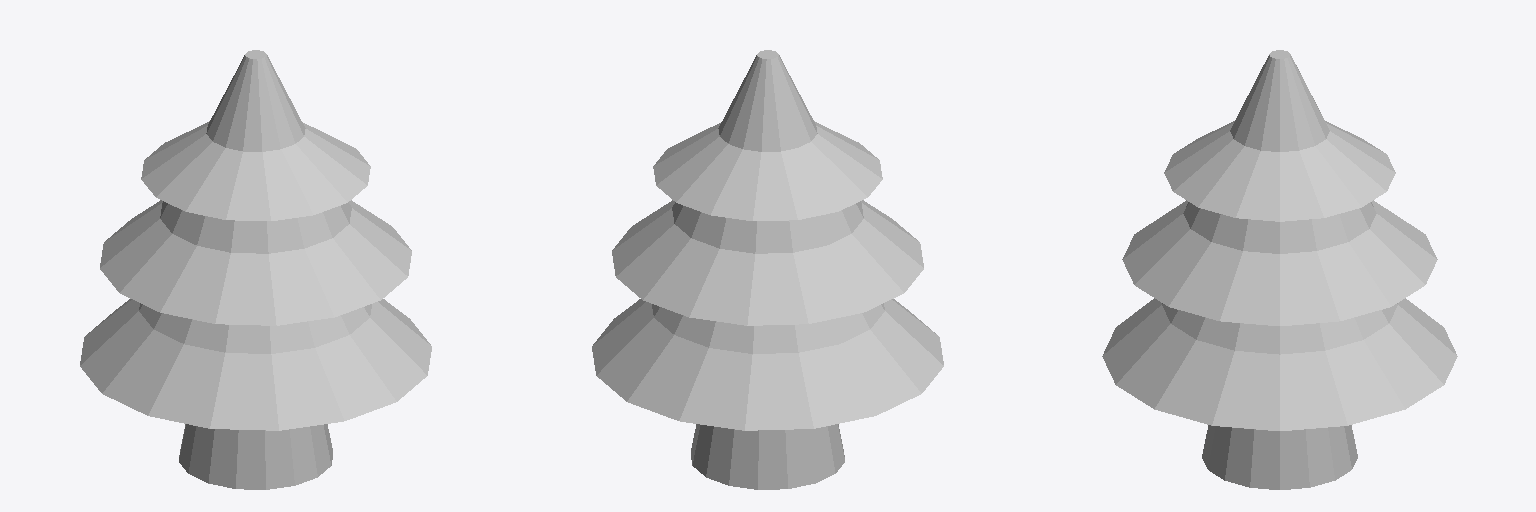
The model's file is tree.obj.
The picture shows the model from 3 angles: view 1: azimuth 30°, elevation 25°; view 2: azimuth 150°, elevation 25°; view 3: azimuth 270°, elevation 25°; orthographic projection.
Parts seen in each view (by area): view 1: Cylinder; view 2: Cylinder; view 3: Cylinder.
Boxes of the visible parts, box(x1,y1,x2,y2) form: Cylinder: box(80, 50, 431, 489); Cylinder: box(592, 50, 943, 489); Cylinder: box(1102, 50, 1457, 489).
Bounding box in the file's own units: 0.7954 × 0.9939 × 0.7954.